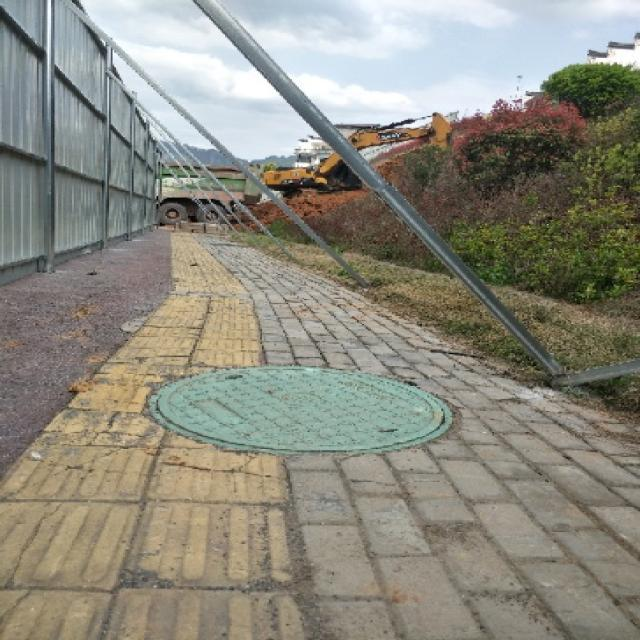Good: (142, 360, 470, 468)
